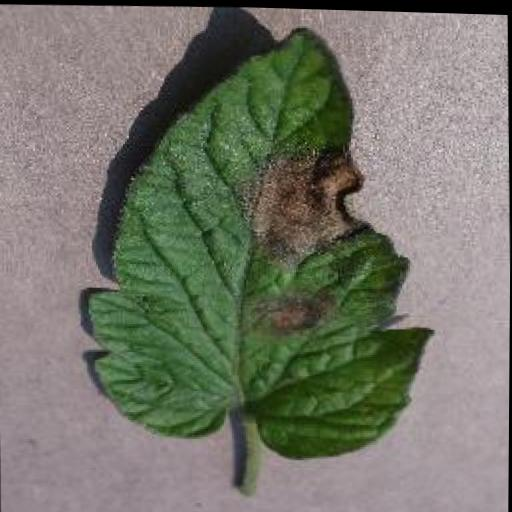Late Blight: (75, 12, 442, 463)
